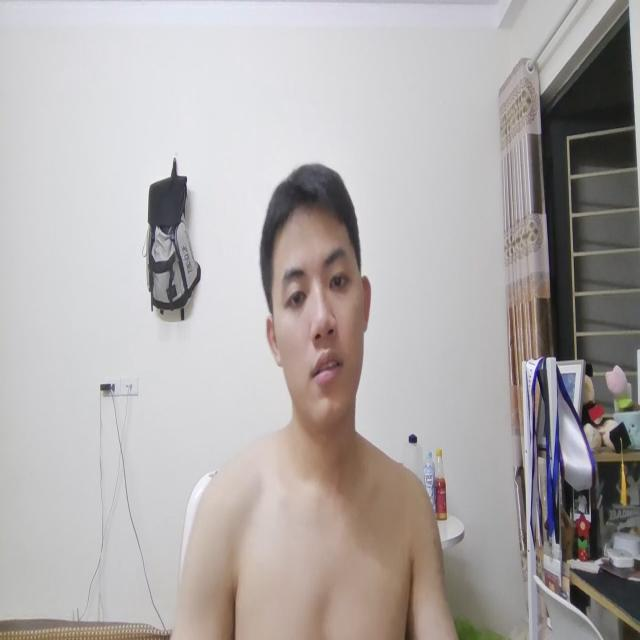student: (206, 152, 429, 638)
